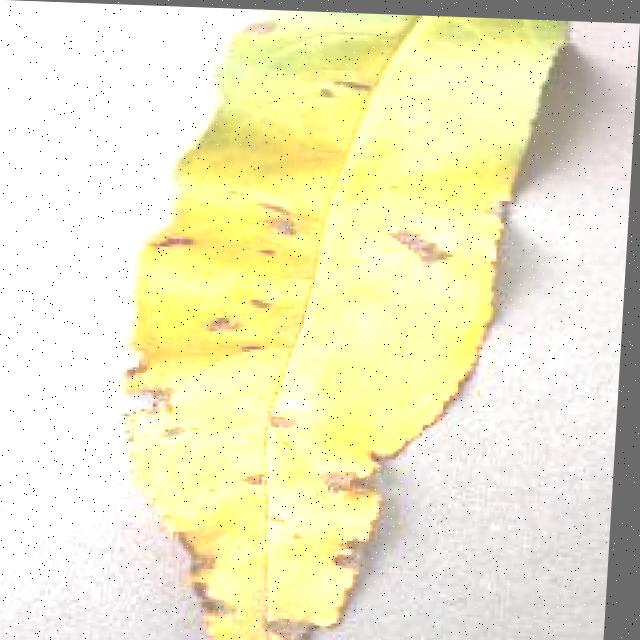Bacterial_spot: (372, 210, 459, 291), (180, 525, 244, 627), (244, 190, 331, 247), (307, 68, 401, 112), (152, 402, 214, 458), (174, 305, 241, 352), (139, 221, 214, 262), (317, 449, 366, 509), (318, 526, 371, 580), (255, 398, 311, 445), (254, 606, 331, 640), (232, 455, 283, 501), (235, 290, 288, 324)
